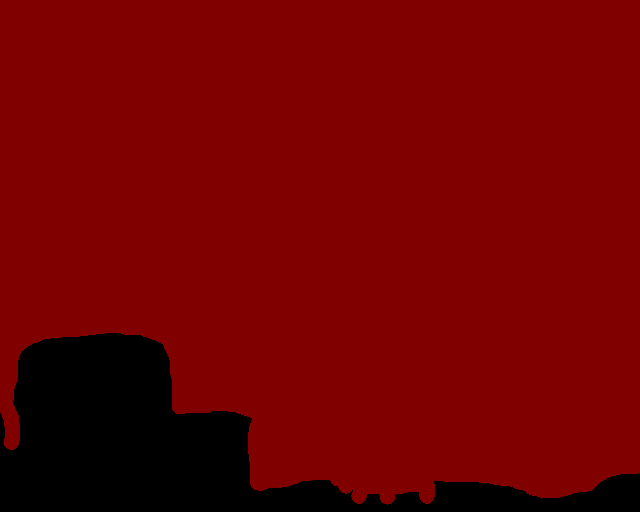Sky: (1, 1, 639, 504)
